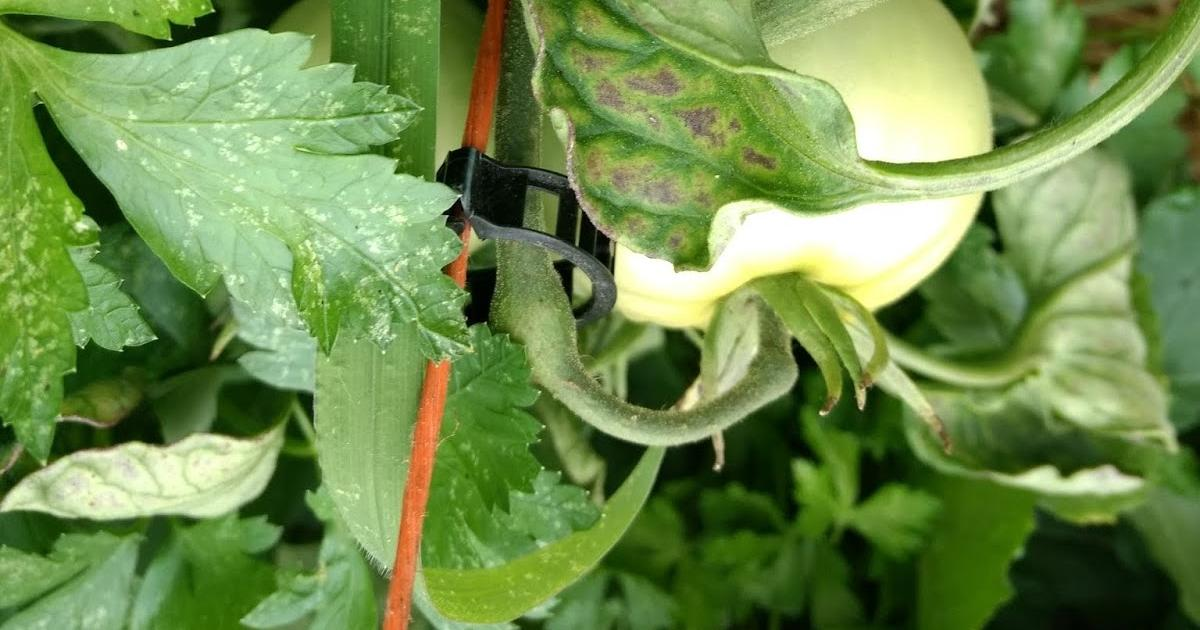Tomato leaf mosaic virus: (30, 27, 467, 361)
